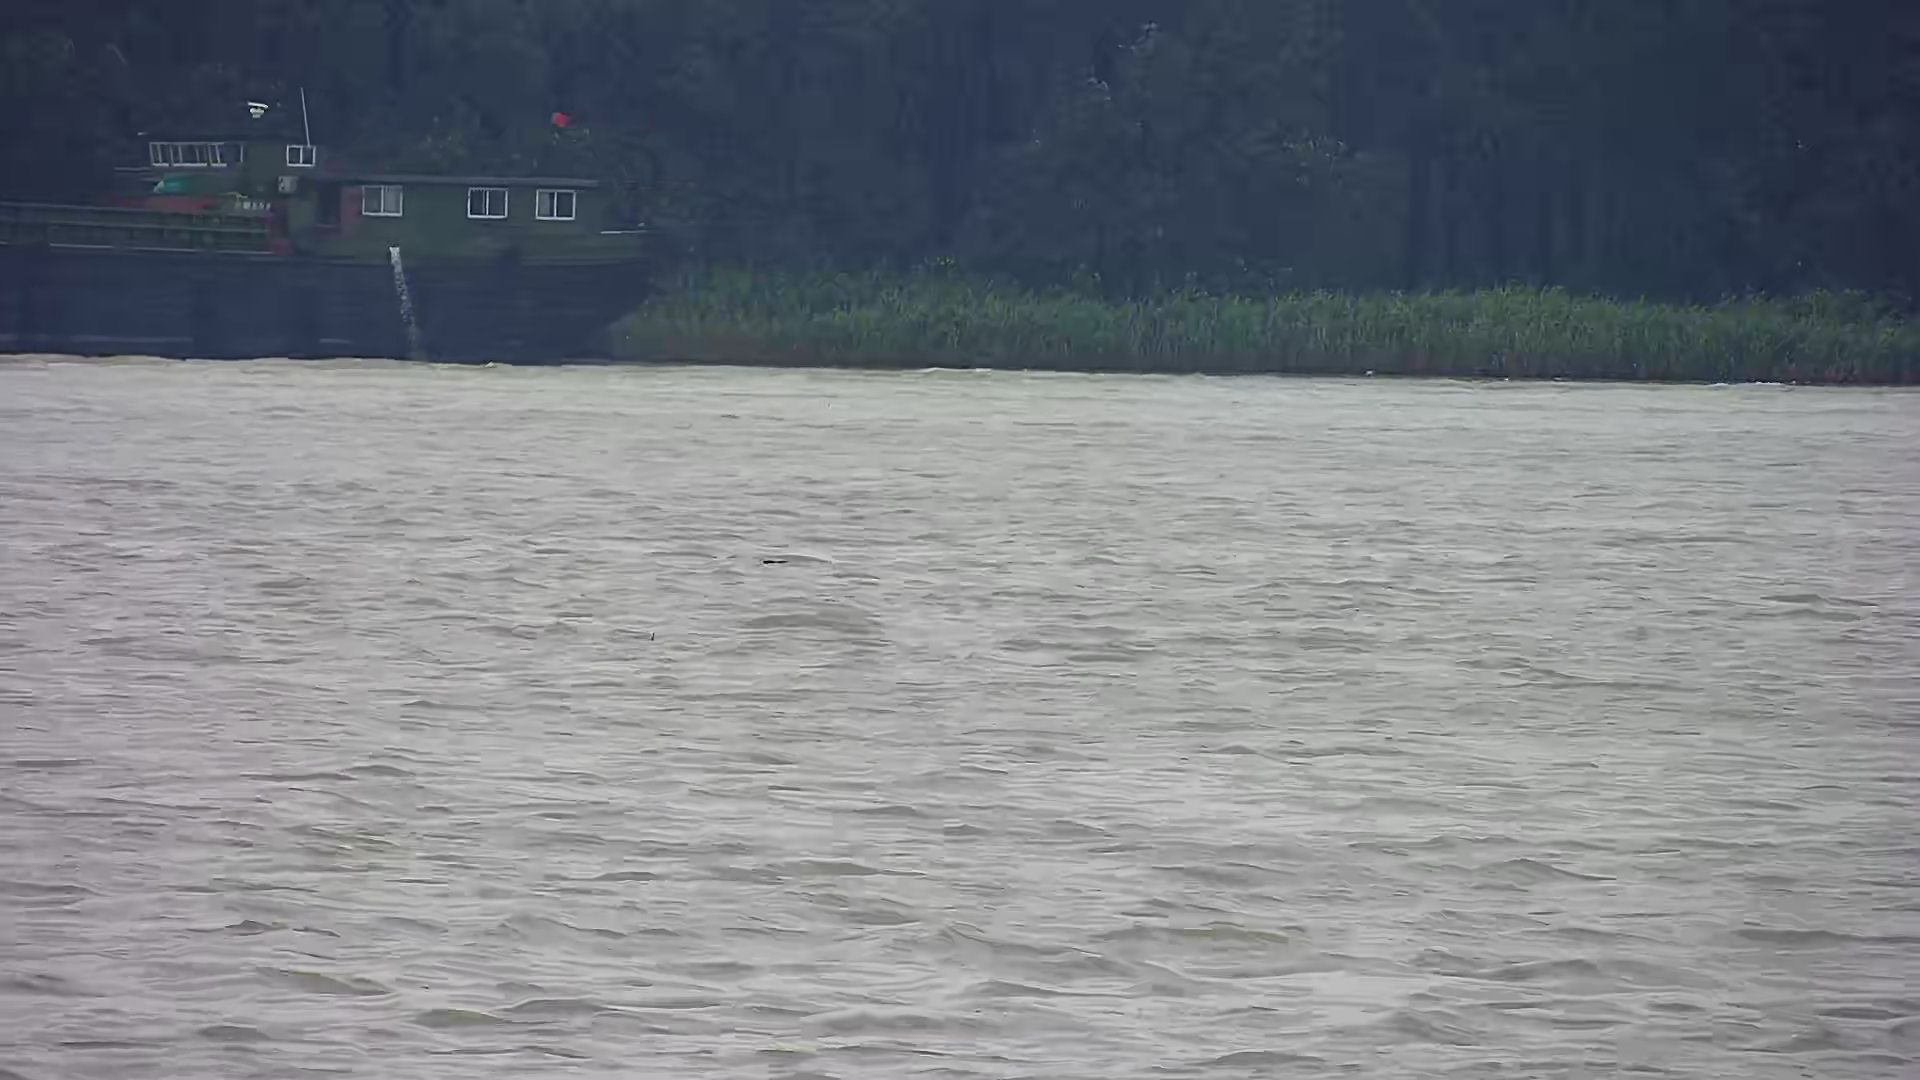ship: (3, 82, 669, 369)
